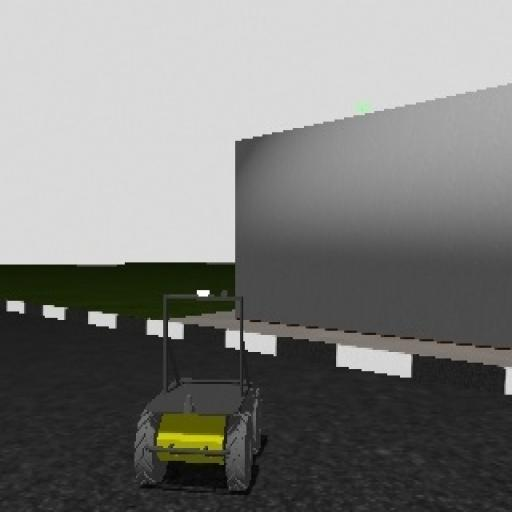huskya200: (113, 284, 269, 498)
